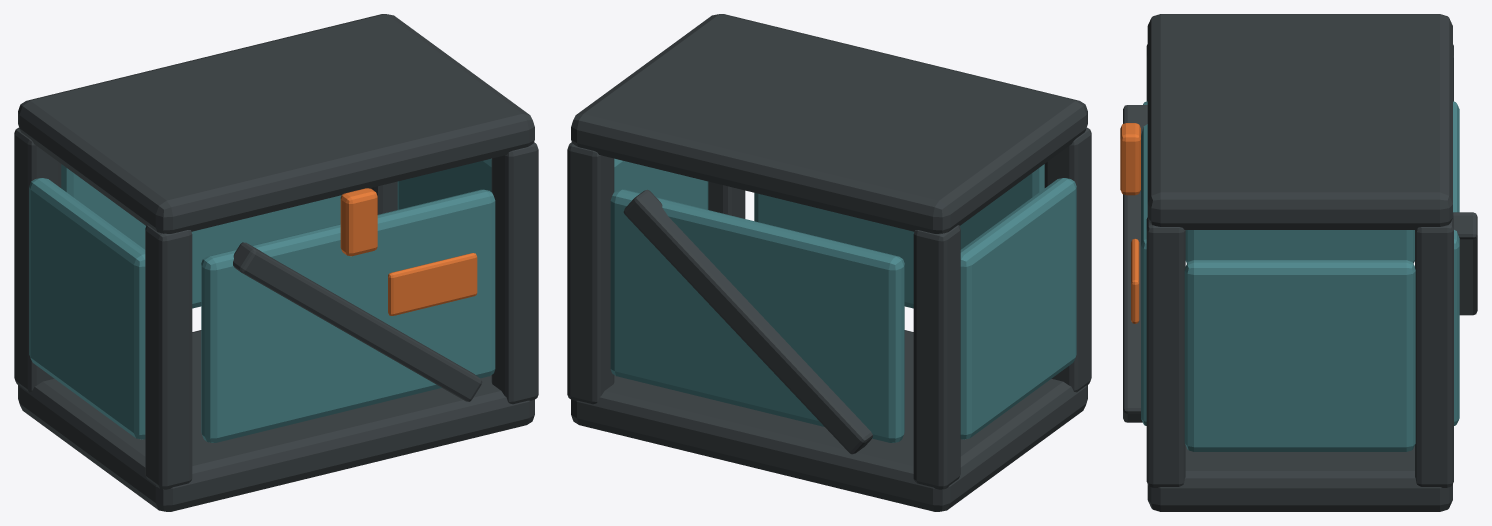
File: NW_StorageCrate_01.fbx
3 views of the same model, side by side, from view 1: azimuth 30°, elevation 25°; view 2: azimuth 150°, elevation 25°; view 3: azimuth 270°, elevation 25° (orthographic). The views are drawn at different scales.
Parts seen in each view (by area): view 1: NW_StorageCrate_01_Lid, NW_StorageCrate_01_FrontPanel, NW_StorageCrate_01_Base, NW_StorageCrate_01_LeftPanel, NW_StorageCrate_01_Post_LF, NW_StorageCrate_01_Post_RF, NW_StorageCrate_01_FrontBrace, NW_StorageCrate_01_BackPanel, NW_StorageCrate_01_Post_LB, NW_StorageCrate_01_Label, NW_StorageCrate_01_RightPanel, NW_StorageCrate_01_Latch (+1 smaller); view 2: NW_StorageCrate_01_Lid, NW_StorageCrate_01_BackPanel, NW_StorageCrate_01_Base, NW_StorageCrate_01_LeftPanel, NW_StorageCrate_01_Post_LB, NW_StorageCrate_01_Post_RB, NW_StorageCrate_01_BackBrace, NW_StorageCrate_01_FrontPanel, NW_StorageCrate_01_Post_LF, NW_StorageCrate_01_RightPanel, NW_StorageCrate_01_Post_RF; view 3: NW_StorageCrate_01_Lid, NW_StorageCrate_01_RightPanel, NW_StorageCrate_01_Base, NW_StorageCrate_01_Post_RF, NW_StorageCrate_01_Post_RB, NW_StorageCrate_01_LeftPanel, NW_StorageCrate_01_FrontBrace, NW_StorageCrate_01_BackBrace, NW_StorageCrate_01_BackPanel, NW_StorageCrate_01_FrontPanel, NW_StorageCrate_01_Latch, NW_StorageCrate_01_Label.
Boxes of the visible parts, box(x1,y1,x2,y2) form: NW_StorageCrate_01_Lid: box(18, 14, 534, 233); NW_StorageCrate_01_FrontPanel: box(201, 189, 495, 442); NW_StorageCrate_01_Base: box(18, 330, 534, 511); NW_StorageCrate_01_LeftPanel: box(29, 178, 145, 439); NW_StorageCrate_01_Post_LF: box(145, 225, 192, 489); NW_StorageCrate_01_Post_RF: box(491, 142, 538, 404); NW_StorageCrate_01_FrontBrace: box(233, 242, 482, 401); NW_StorageCrate_01_BackPanel: box(61, 164, 341, 308); NW_StorageCrate_01_Post_LB: box(14, 127, 61, 392); NW_StorageCrate_01_Label: box(388, 253, 477, 315); NW_StorageCrate_01_RightPanel: box(397, 158, 491, 209); NW_StorageCrate_01_Latch: box(340, 188, 377, 256); NW_StorageCrate_01_Lid: box(571, 14, 1087, 233); NW_StorageCrate_01_BackPanel: box(610, 189, 904, 442); NW_StorageCrate_01_Base: box(571, 330, 1087, 511); NW_StorageCrate_01_LeftPanel: box(960, 178, 1076, 439); NW_StorageCrate_01_Post_LB: box(913, 225, 960, 489); NW_StorageCrate_01_Post_RB: box(567, 142, 614, 404); NW_StorageCrate_01_BackBrace: box(623, 189, 872, 454); NW_StorageCrate_01_FrontPanel: box(754, 164, 1044, 308); NW_StorageCrate_01_Post_LF: box(1044, 127, 1091, 392); NW_StorageCrate_01_RightPanel: box(614, 158, 708, 209); NW_StorageCrate_01_Post_RF: box(708, 181, 745, 218); NW_StorageCrate_01_Lid: box(1147, 14, 1452, 229); NW_StorageCrate_01_RightPanel: box(1184, 260, 1415, 451); NW_StorageCrate_01_Base: box(1147, 445, 1452, 511); NW_StorageCrate_01_Post_RF: box(1146, 217, 1185, 487); NW_StorageCrate_01_Post_RB: box(1415, 218, 1453, 487); NW_StorageCrate_01_LeftPanel: box(1185, 230, 1414, 263); NW_StorageCrate_01_FrontBrace: box(1123, 105, 1147, 422); NW_StorageCrate_01_BackBrace: box(1453, 212, 1477, 315); NW_StorageCrate_01_BackPanel: box(1453, 101, 1459, 425); NW_StorageCrate_01_FrontPanel: box(1141, 101, 1147, 425); NW_StorageCrate_01_Latch: box(1120, 123, 1140, 195); NW_StorageCrate_01_Label: box(1131, 238, 1139, 323).
Size of the model in its own units: 1.23 by 0.945 by 0.958.
